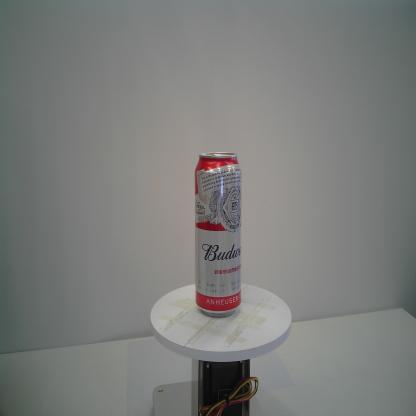Alcohol: (194, 152, 243, 318)
